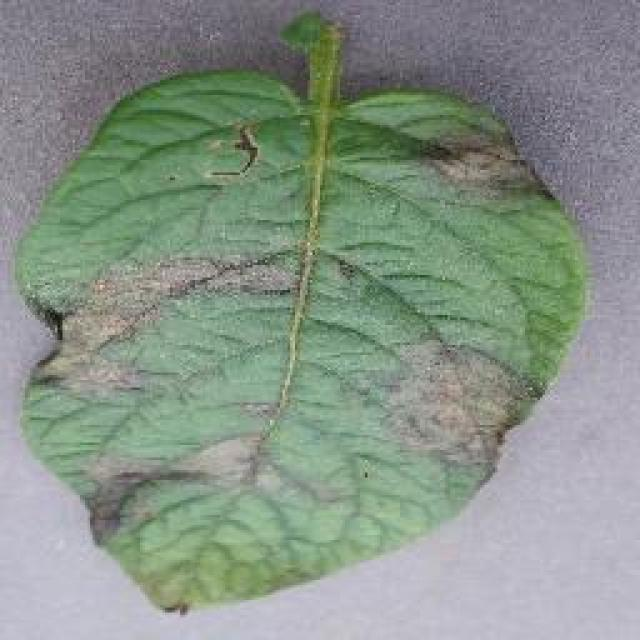Potato___Late_blight: (12, 8, 589, 625)
